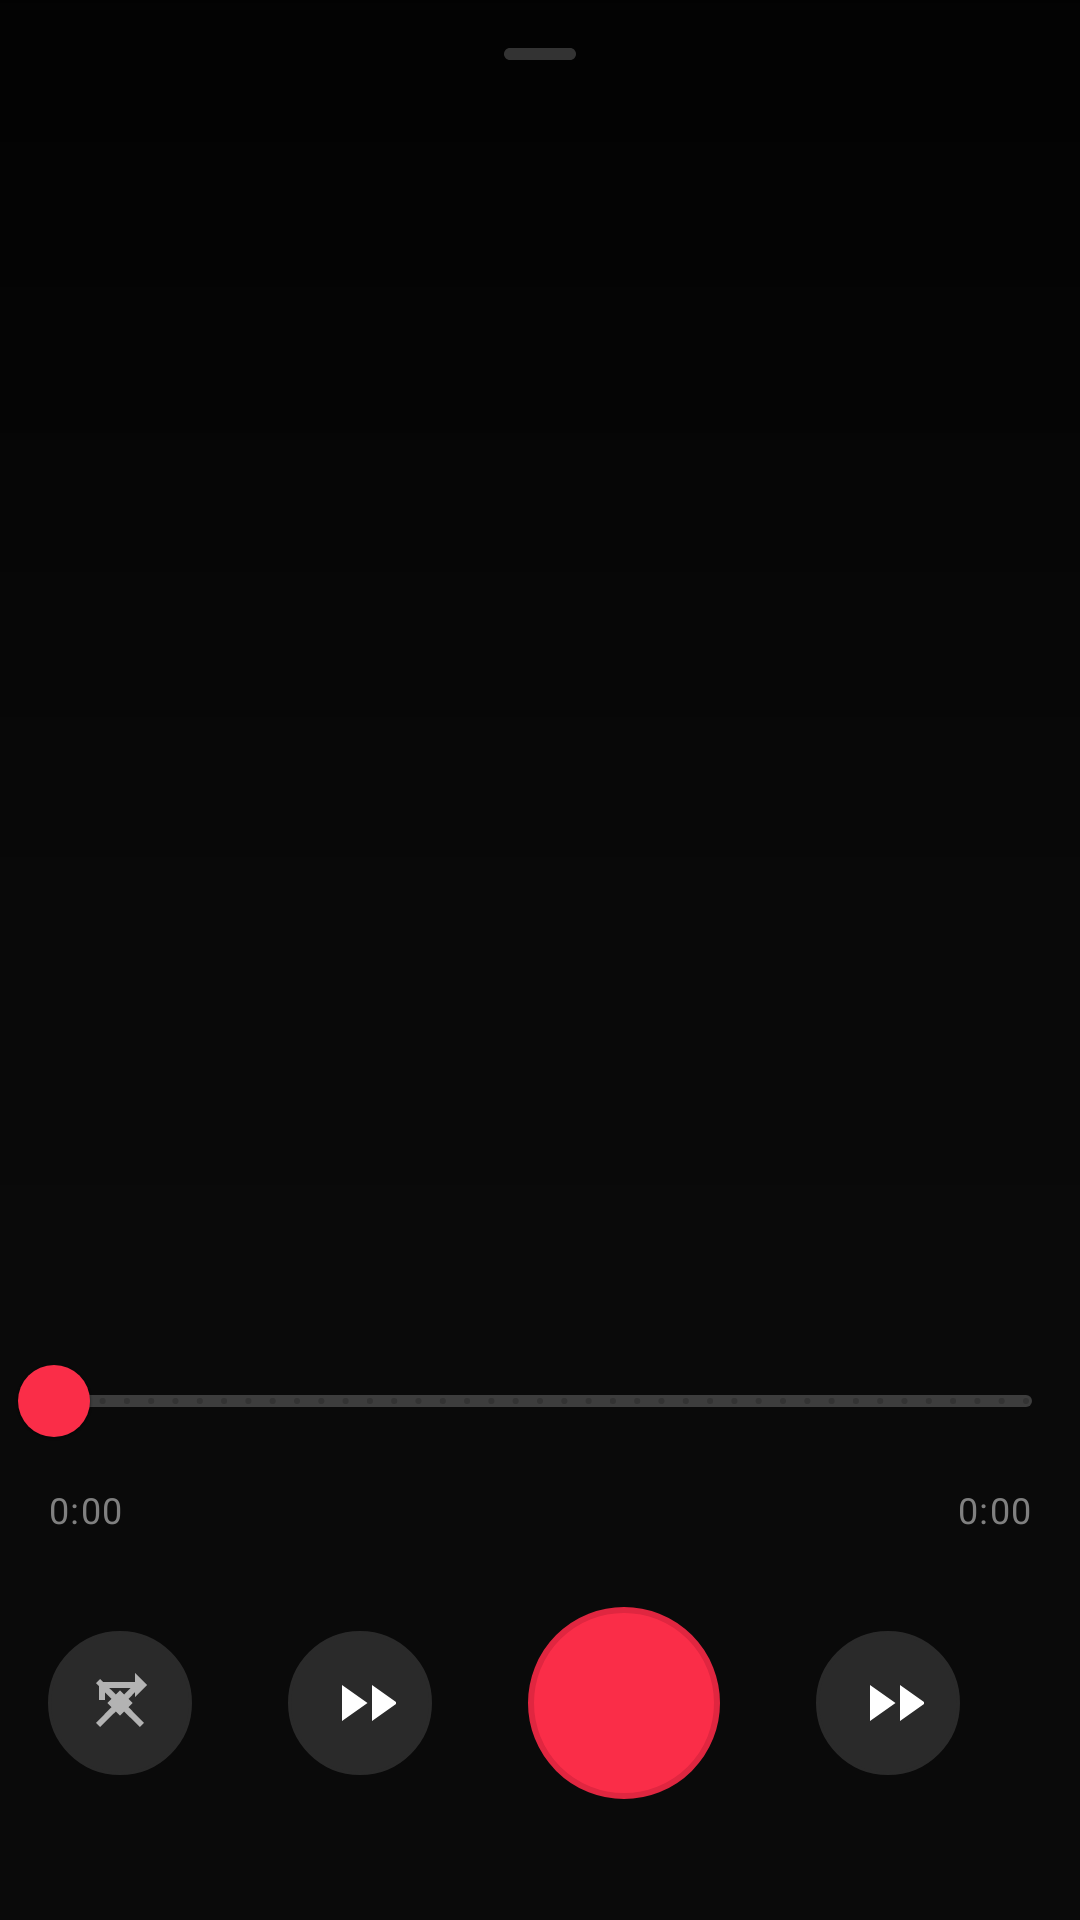

Where icons sit on this 1080 × 1920 app screen, as (x1, y1, x2, y2):
Next track: (816, 1631, 960, 1775)
Toggle shuffle: (48, 1631, 192, 1775)
